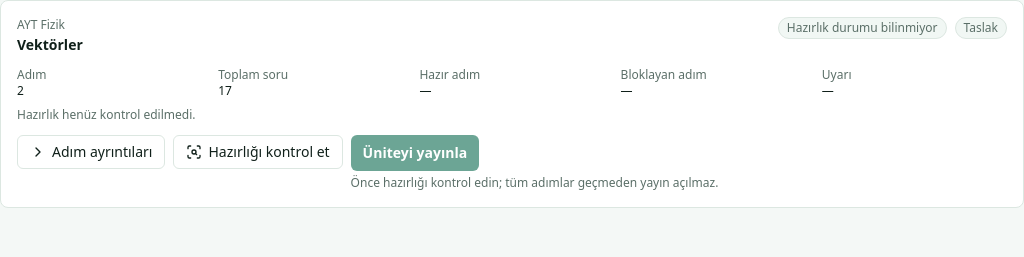
PublishingUnitCard › asks for a check before showing details it does not have
Click the button "Adım ayrıntıları" at (91, 152), box [17, 135, 166, 169]
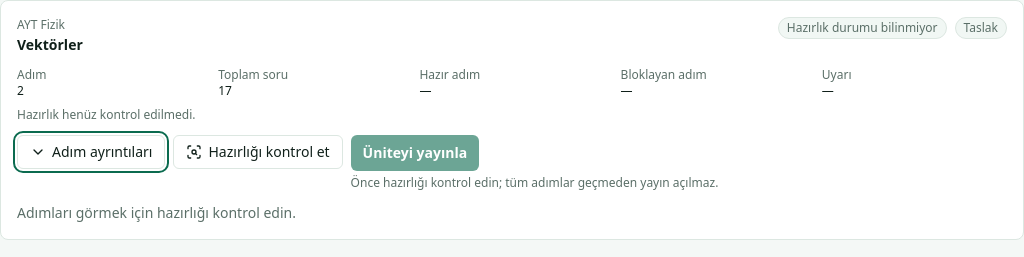
Expected: the text "Adımları görmek için hazırlığı kontrol edin." is shown, [17, 203, 296, 222]
